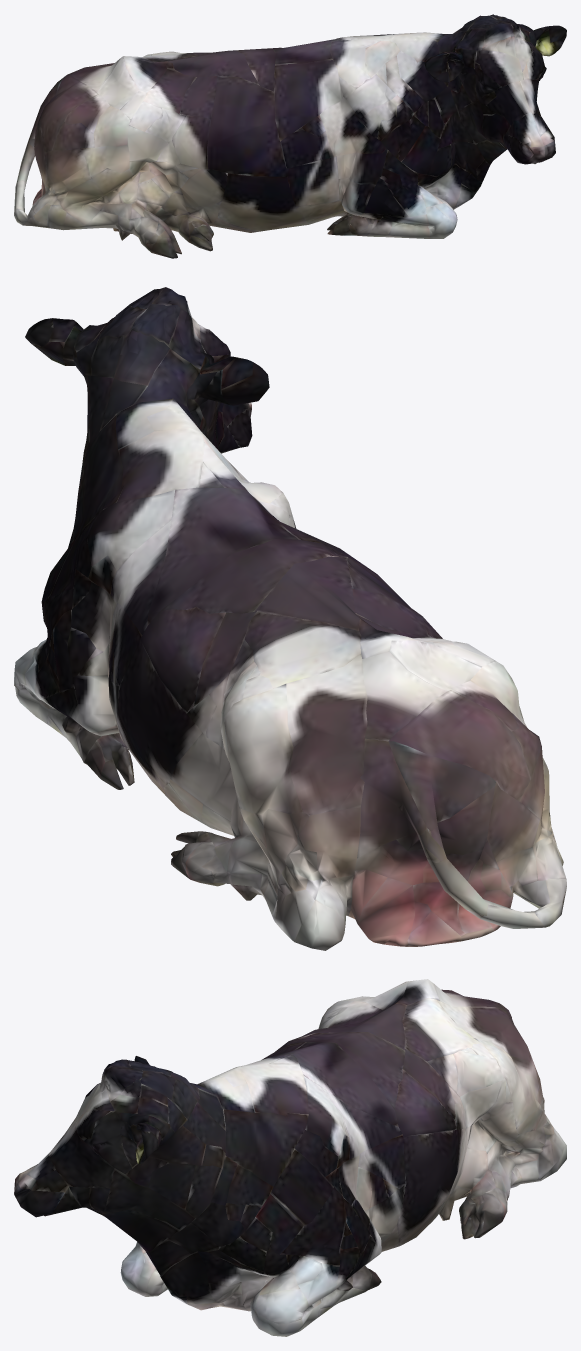
File: cow-resting.glb
3 renders of one model, top to bottom at view 1: azimuth 30°, elevation 25°; view 2: azimuth 150°, elevation 25°; view 3: azimuth 270°, elevation 25°, orthographic. The views are drawn at different scales.
Bounding box in the file's own units: 1.89 × 0.8742 × 1.64.
1 material, 1 textured.
